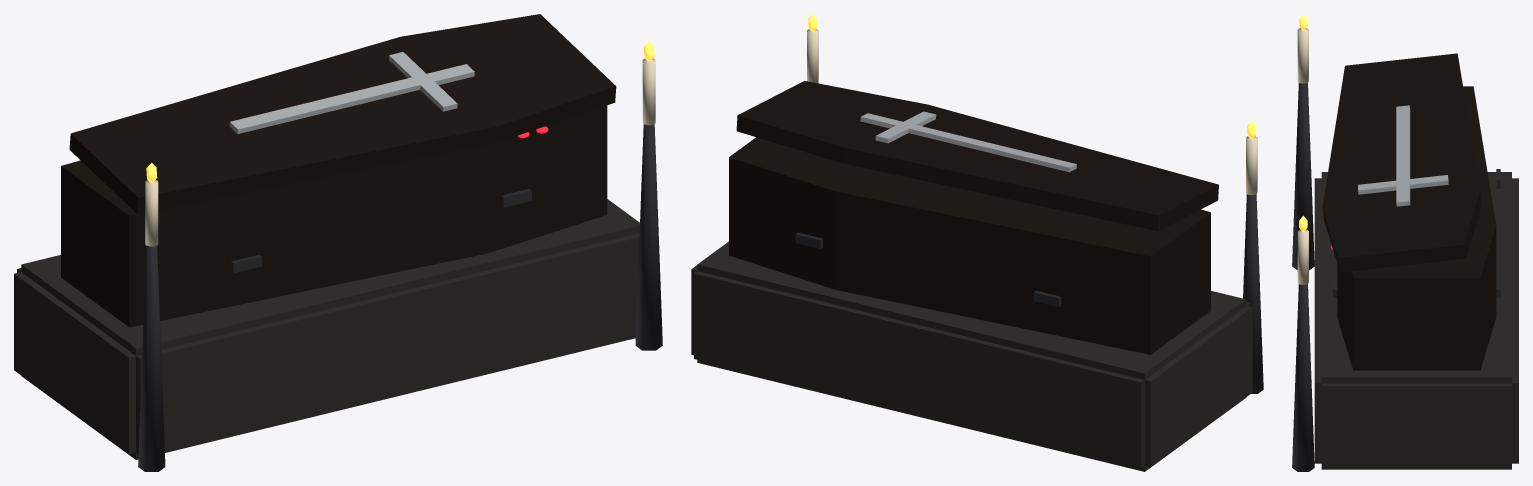
Rendered from gothic-coffin.glb.
3 renders of one model, left to right at view 1: azimuth 30°, elevation 25°; view 2: azimuth 150°, elevation 25°; view 3: azimuth 270°, elevation 25°, orthographic. The views are drawn at different scales.
Visible parts, largest first — view 1: Model Mesh, Pump 0 Mesh; view 2: Model Mesh, Pump 0 Mesh; view 3: Model Mesh, Pump 0 Mesh.
Boxes of the visible parts, x1,y1,x2,y2 form: Model Mesh: (14,58,662,471); Pump 0 Mesh: (69,14,616,214); Model Mesh: (691,29,1263,471); Pump 0 Mesh: (736,81,1218,231); Model Mesh: (1292,28,1518,471); Pump 0 Mesh: (1322,53,1481,272).
Bounding box in the file's own units: 2.2 × 1.23 × 1.
